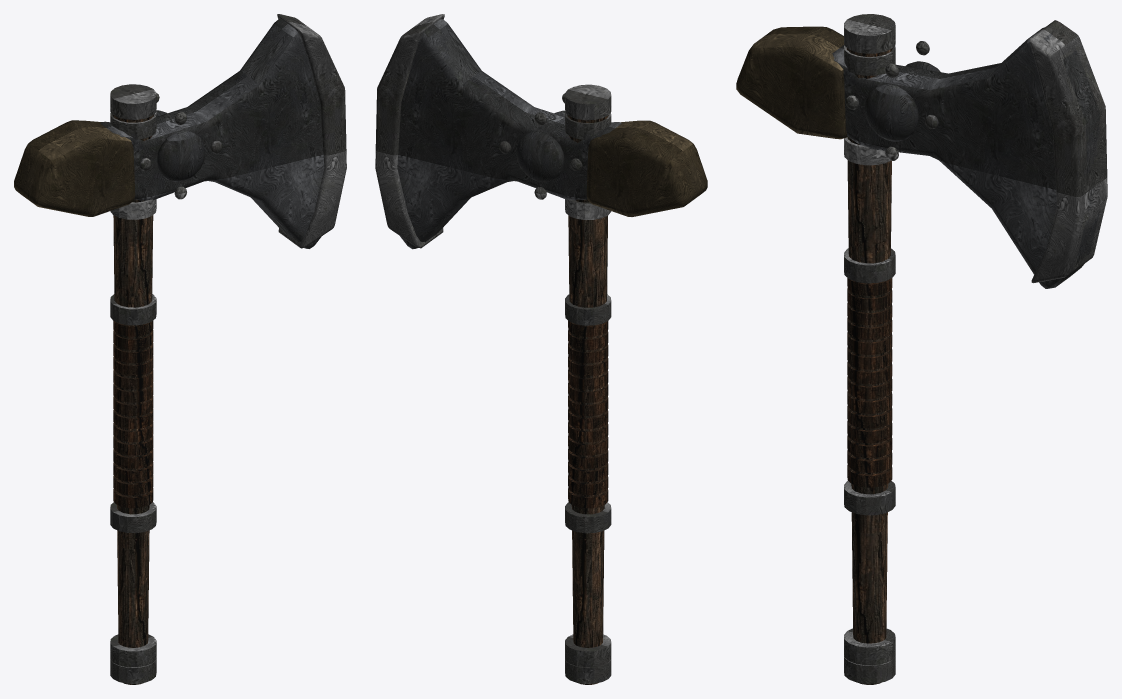
Rendered from DuelWeapon_liuQuanwei.glb.
3 views of the same model, side by side, from view 1: azimuth 30°, elevation 25°; view 2: azimuth 150°, elevation 25°; view 3: azimuth 330°, elevation 25° (orthographic). The views are drawn at different scales.
Visible parts, largest first — view 1: LiuQuanwei_GreatAxe; view 2: LiuQuanwei_GreatAxe; view 3: LiuQuanwei_GreatAxe.
Boxes of the visible parts, box(x1,y1,x2,y2) form: LiuQuanwei_GreatAxe: box(14, 14, 346, 684); LiuQuanwei_GreatAxe: box(375, 14, 707, 684); LiuQuanwei_GreatAxe: box(736, 14, 1107, 684).
Size of the model in its own units: 0.7101 by 1.35 by 0.1665.
Materials: 5 (5 with a texture image).
